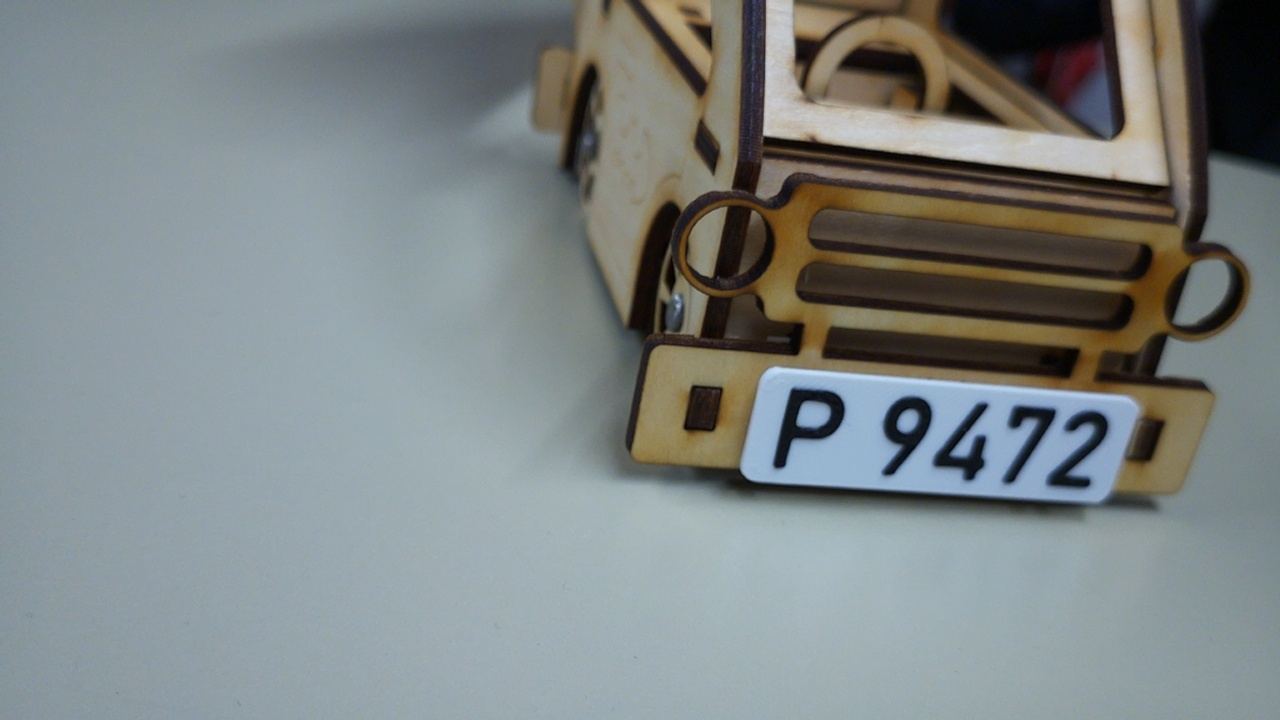license_plate: (738, 363, 1145, 508)
